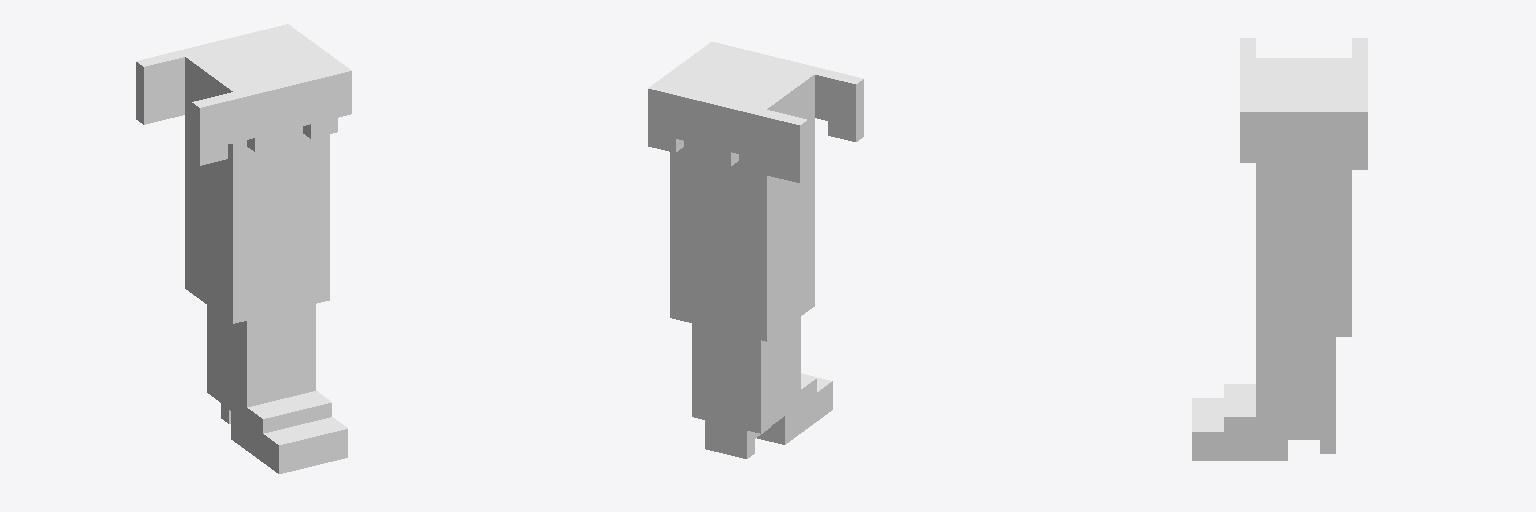
Rendered from pierna2.obj.
The picture shows the model from 3 angles: view 1: azimuth 30°, elevation 25°; view 2: azimuth 150°, elevation 25°; view 3: azimuth 270°, elevation 25°; orthographic projection.
Visible parts, largest first — view 1: pierna2; view 2: pierna2; view 3: pierna2.
Part boxes in pixels (left/top/right/bottom): pierna2: left=136, top=24, right=351, bottom=473; pierna2: left=648, top=42, right=863, bottom=458; pierna2: left=1192, top=38, right=1367, bottom=460.
Size of the model in its own units: 1.1 by 2.5 by 1.1.